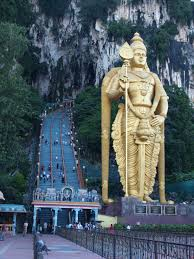person-like: (106, 29, 170, 205)
